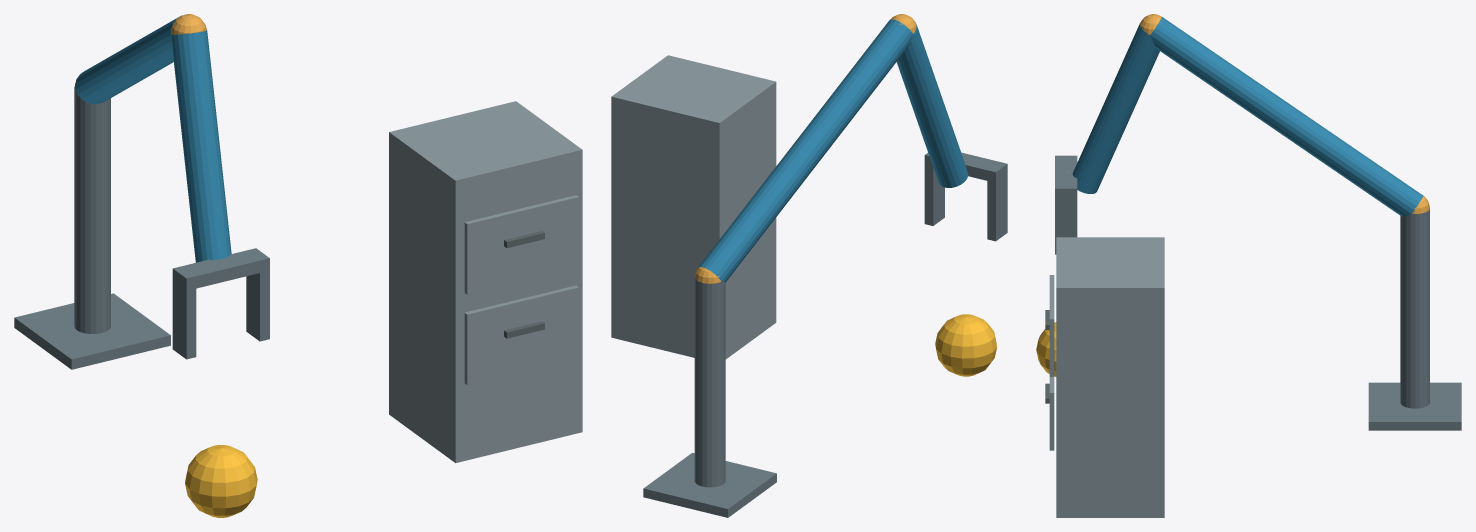
3 views of the same model, side by side, from view 1: azimuth 30°, elevation 25°; view 2: azimuth 150°, elevation 25°; view 3: azimuth 270°, elevation 25° (orthographic). The views are drawn at different scales.
Visible parts, largest first — view 1: cabinet_1 body, fixed post, moving link 2, cabinet_1 drawer front, cabinet_1 drawer front.001, pedestal, ball ball_1, moving link 1, gripper bridge, gripper finger -1, gripper finger 1; view 2: cabinet_1 body, moving link 1, fixed post, moving link 2, pedestal, ball ball_1, gripper finger -1, gripper finger 1, gripper bridge; view 3: cabinet_1 body, moving link 1, fixed post, moving link 2, pedestal, gripper bridge, gripper finger 1, ball ball_1, cabinet_1 drawer front.001.
Boxes of the visible parts, x1,y1,x2,y2 form: cabinet_1 body: [389, 101, 582, 463]; fixed post: [74, 86, 110, 333]; moving link 2: [171, 30, 231, 262]; cabinet_1 drawer front: [464, 285, 578, 385]; cabinet_1 drawer front.001: [464, 195, 578, 294]; pedestal: [14, 293, 170, 369]; ball ball_1: [185, 445, 257, 517]; moving link 1: [75, 15, 182, 103]; gripper bridge: [172, 248, 269, 290]; gripper finger -1: [172, 281, 196, 359]; gripper finger 1: [246, 270, 269, 341]; cabinet_1 body: [611, 55, 776, 359]; moving link 1: [698, 19, 913, 282]; fixed post: [694, 277, 725, 487]; moving link 2: [896, 24, 968, 187]; pedestal: [643, 453, 776, 517]; ball ball_1: [935, 314, 996, 376]; gripper finger -1: [987, 174, 1007, 241]; gripper finger 1: [924, 166, 944, 225]; gripper bridge: [924, 152, 1007, 182]; cabinet_1 body: [1056, 237, 1164, 517]; moving link 1: [1150, 17, 1423, 216]; fixed post: [1400, 208, 1429, 408]; moving link 2: [1072, 22, 1159, 193]; pedestal: [1368, 382, 1461, 430]; gripper bridge: [1055, 155, 1077, 198]; gripper finger 1: [1055, 198, 1077, 254]; ball ball_1: [1036, 322, 1056, 376]; cabinet_1 drawer front.001: [1049, 275, 1054, 376].
Bounding box in the file's own units: 1 × 1.09 × 1.14.
